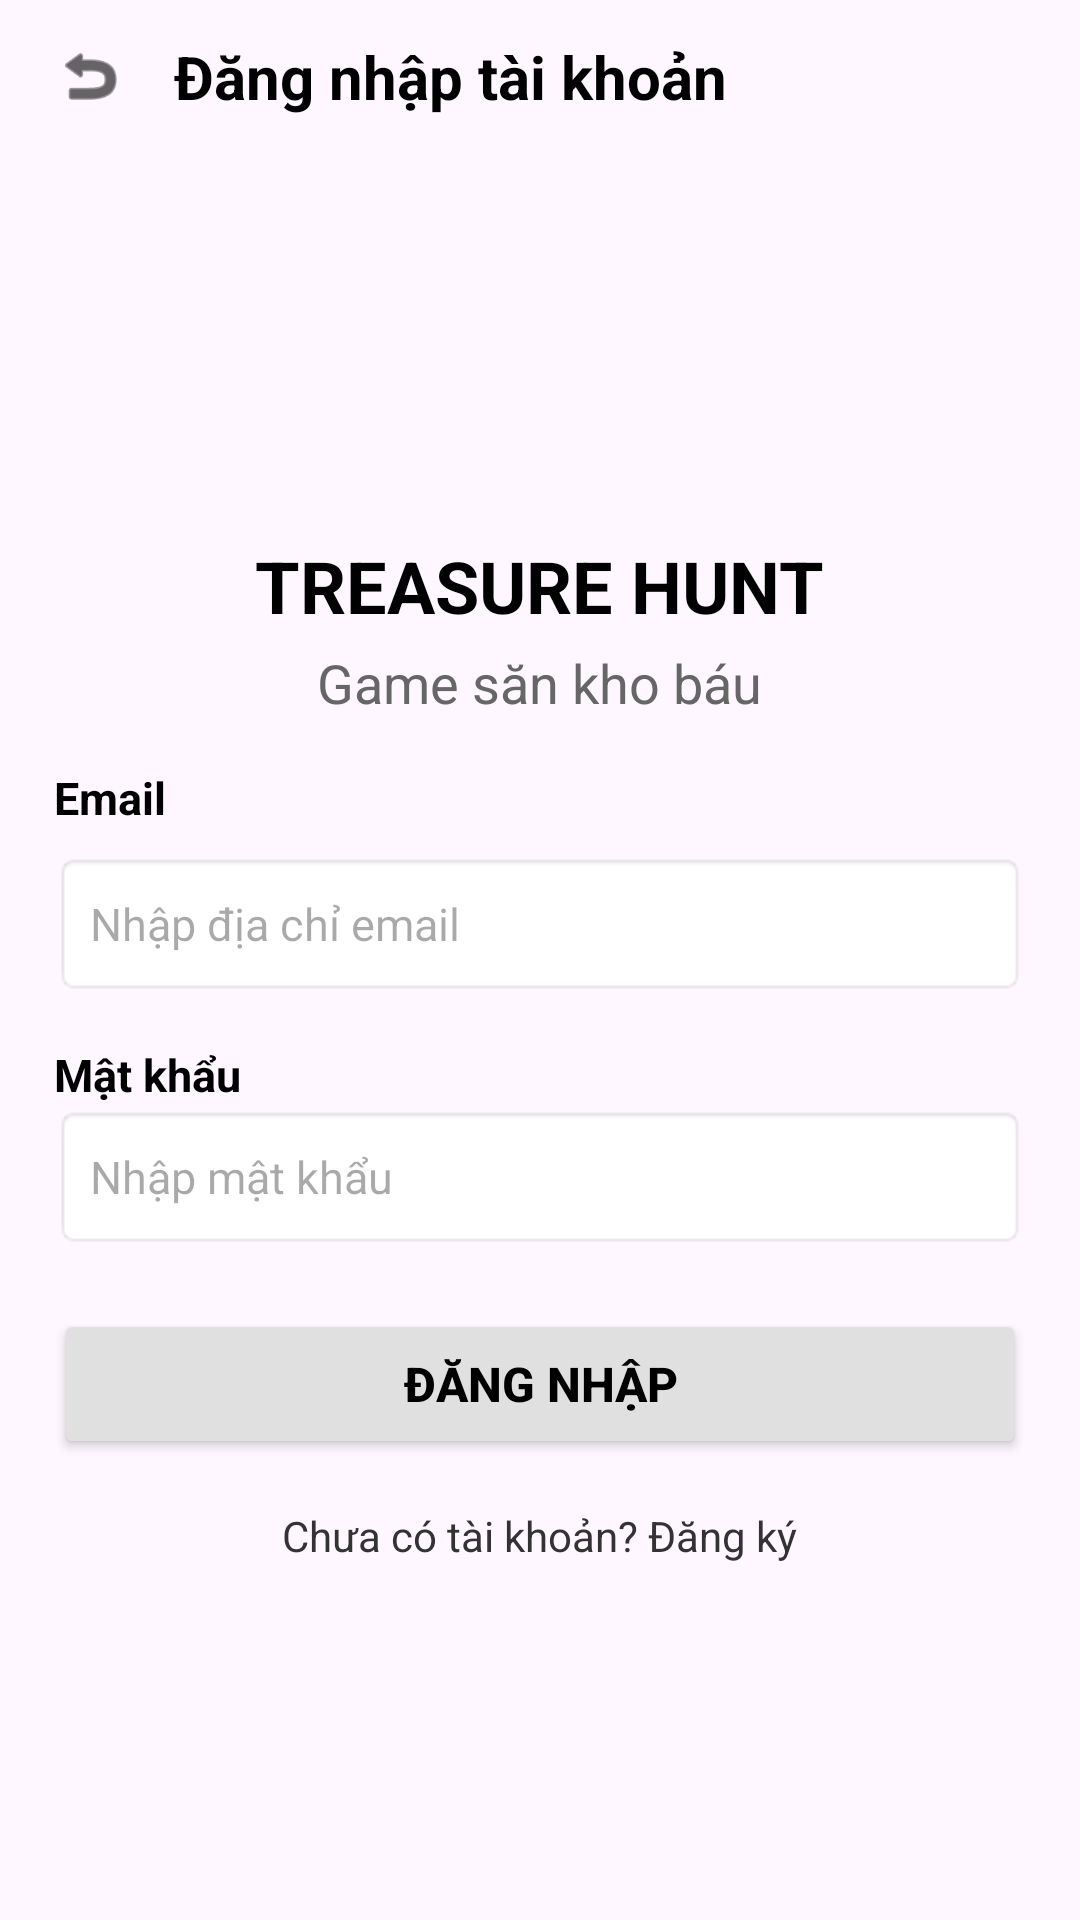

Icons on this 1080w x 1920h Android screen, each with its box as (x1, y1, x2, y2):
Quay lại: (65, 53, 117, 100)
